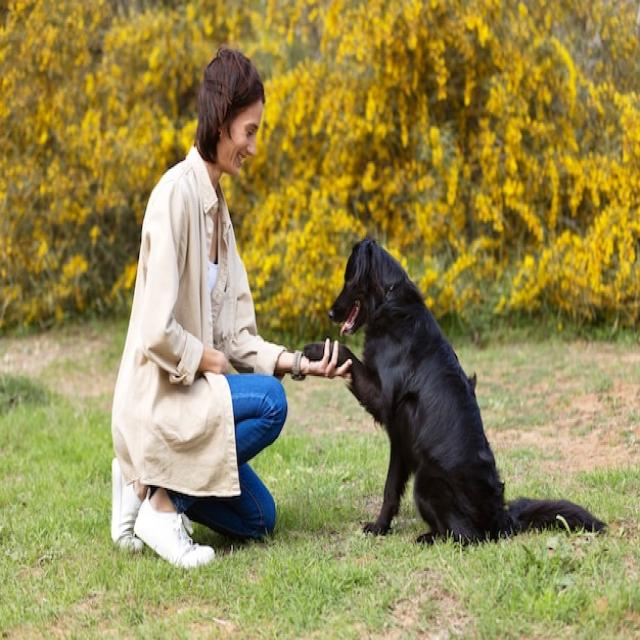Dog: (304, 238, 610, 547)
Person: (112, 48, 356, 570)
